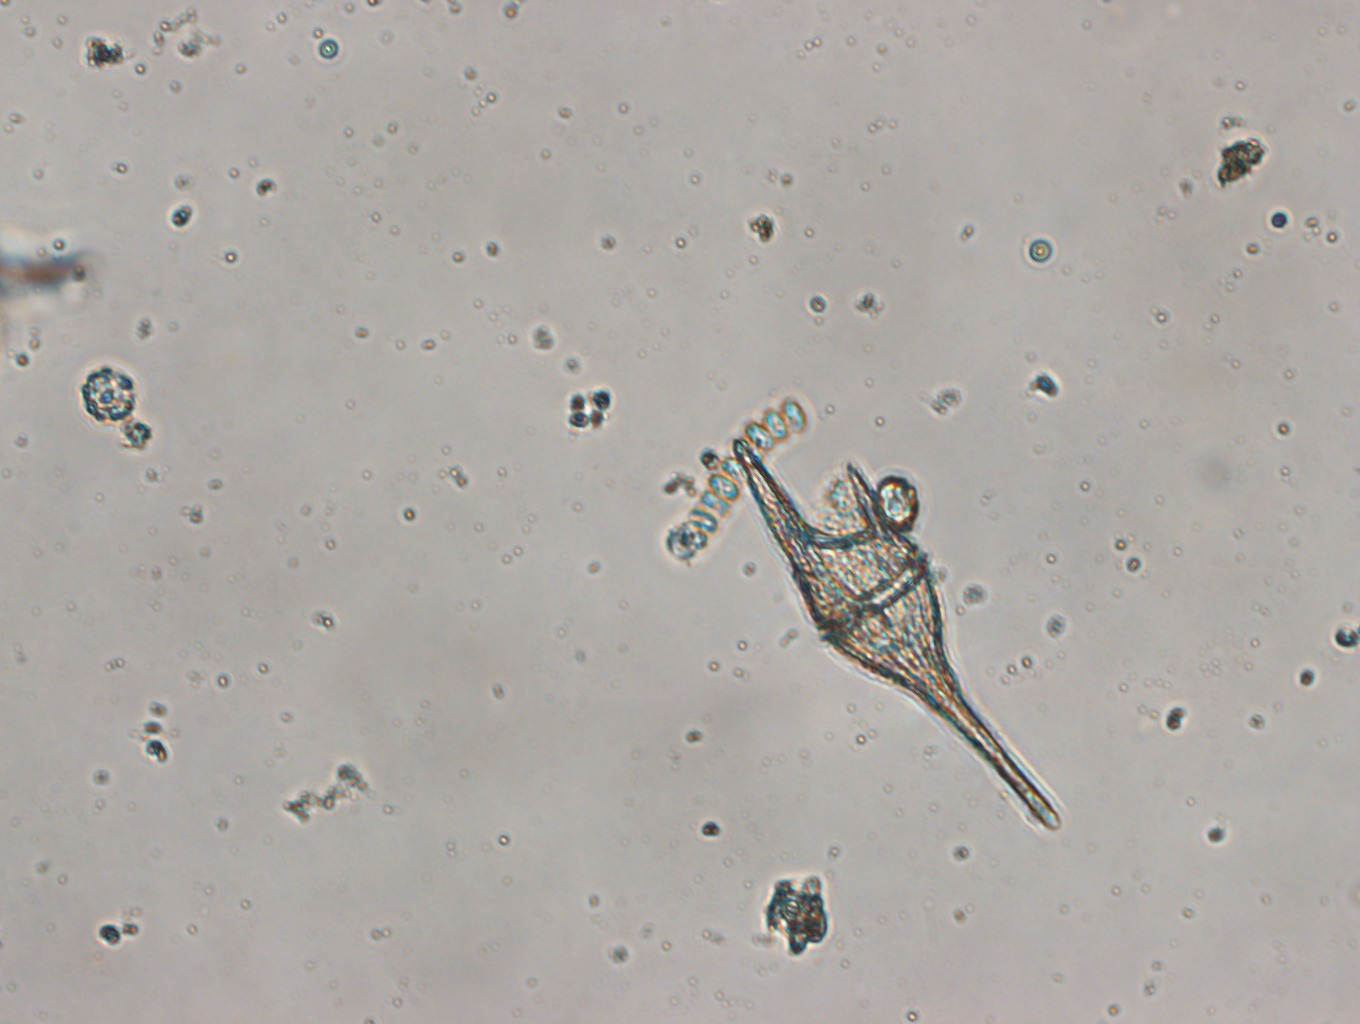ceratium furca: (731, 436, 1065, 831)
